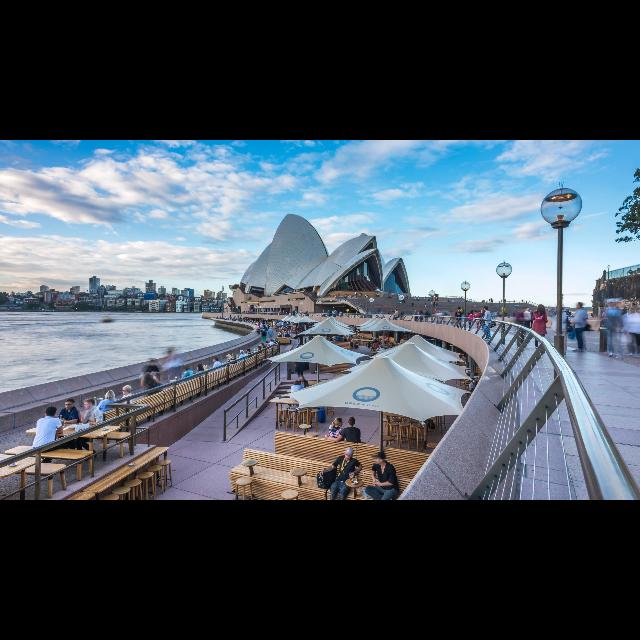head: (620, 305, 640, 359), (44, 407, 56, 419), (374, 452, 386, 464), (84, 398, 95, 410), (346, 447, 354, 461), (65, 400, 75, 410), (122, 385, 132, 395), (334, 418, 344, 427), (348, 417, 356, 425), (183, 364, 190, 372), (108, 390, 114, 398), (538, 304, 544, 312), (556, 305, 564, 311), (577, 302, 583, 310), (610, 300, 616, 308), (145, 368, 151, 374), (196, 364, 202, 370), (213, 357, 219, 363), (226, 354, 232, 360), (294, 380, 300, 386), (246, 348, 250, 354), (300, 376, 304, 382), (471, 378, 475, 384), (232, 354, 236, 358), (240, 350, 244, 354), (257, 346, 261, 350), (297, 348, 301, 352), (481, 308, 485, 312), (484, 306, 488, 310), (526, 308, 530, 312), (566, 308, 570, 312), (606, 308, 610, 312), (471, 310, 474, 314), (379, 344, 381, 348), (458, 308, 460, 312), (475, 310, 477, 314), (530, 308, 532, 312), (263, 329, 265, 331), (270, 327, 272, 329), (257, 329, 259, 331), (265, 321, 267, 323), (285, 331, 287, 333), (288, 332, 290, 334), (287, 332, 289, 334), (280, 332, 282, 334), (279, 333, 281, 335), (381, 346, 383, 348), (377, 341, 379, 343), (387, 335, 389, 337), (385, 335, 387, 337), (349, 336, 351, 338), (254, 310, 256, 312), (294, 310, 296, 312), (334, 309, 336, 311), (395, 309, 397, 311), (415, 310, 417, 312), (420, 310, 422, 312), (426, 311, 428, 313), (463, 310, 465, 312), (526, 300, 528, 302), (257, 328, 259, 329), (280, 321, 282, 322), (276, 321, 278, 322), (328, 310, 329, 312), (332, 310, 333, 312), (461, 296, 462, 298), (412, 302, 413, 304), (262, 324, 262, 324), (258, 324, 260, 324), (230, 314, 230, 316), (252, 322, 254, 322), (254, 322, 256, 322), (250, 310, 250, 312), (280, 310, 280, 312), (284, 310, 284, 312), (292, 310, 292, 310), (296, 310, 298, 310), (300, 310, 302, 310), (324, 312, 324, 314), (388, 312, 389, 312), (592, 314, 592, 314), (516, 304, 516, 304), (518, 304, 518, 306), (522, 300, 524, 300), (502, 300, 502, 300), (500, 300, 500, 302), (492, 300, 493, 300), (490, 298, 490, 300), (474, 304, 476, 304), (462, 300, 462, 300), (448, 300, 449, 300), (437, 302, 438, 302), (426, 304, 426, 304), (416, 296, 416, 296), (398, 294, 399, 294), (354, 294, 354, 294), (296, 290, 296, 290), (280, 332, 280, 332)
person: (32, 406, 78, 472), (324, 416, 368, 468), (48, 397, 82, 459), (76, 396, 106, 462), (602, 297, 634, 358), (94, 388, 125, 439), (137, 366, 175, 406), (549, 302, 573, 356), (568, 301, 592, 353), (112, 384, 136, 430), (327, 417, 347, 463), (532, 304, 548, 354), (177, 363, 196, 401), (480, 305, 496, 341), (192, 362, 208, 396), (208, 356, 225, 386), (294, 375, 310, 403), (291, 379, 305, 409), (468, 377, 484, 403), (294, 347, 306, 381), (560, 306, 572, 338), (478, 308, 489, 340), (222, 352, 238, 372), (522, 307, 532, 337), (231, 350, 247, 368), (454, 307, 464, 335), (601, 306, 611, 334), (220, 354, 234, 370), (250, 346, 264, 362), (242, 349, 254, 365), (527, 308, 535, 332), (237, 350, 249, 364), (459, 308, 466, 332), (473, 310, 481, 330), (267, 327, 275, 345), (260, 328, 268, 344), (390, 309, 398, 325), (392, 309, 400, 325), (255, 328, 267, 338), (256, 327, 268, 337), (468, 310, 474, 330), (376, 344, 384, 358), (346, 335, 354, 349), (424, 310, 430, 328), (374, 341, 382, 354), (378, 346, 386, 358), (418, 310, 424, 326), (380, 334, 388, 344), (286, 332, 292, 344), (285, 332, 291, 344), (277, 333, 283, 345), (414, 310, 418, 326), (383, 334, 389, 344), (260, 323, 266, 331), (257, 322, 263, 330), (320, 312, 326, 320), (275, 321, 279, 332), (264, 321, 268, 331), (284, 331, 288, 341), (280, 332, 284, 342), (280, 320, 284, 330), (278, 330, 282, 340), (278, 310, 282, 318), (282, 310, 286, 318), (290, 310, 294, 318), (292, 310, 296, 318), (294, 309, 298, 317), (590, 312, 594, 320), (514, 303, 518, 309), (294, 290, 298, 296), (334, 309, 336, 319), (252, 322, 255, 328), (300, 309, 302, 317), (328, 310, 330, 318), (332, 310, 334, 318), (524, 300, 528, 304), (447, 298, 451, 302), (364, 294, 368, 298), (252, 321, 254, 327), (254, 309, 256, 315), (388, 312, 390, 318), (517, 304, 519, 310), (491, 299, 493, 305), (490, 297, 492, 303), (486, 300, 488, 306), (474, 303, 476, 309), (425, 302, 427, 308), (412, 302, 414, 308), (417, 296, 419, 302), (229, 314, 231, 318), (249, 310, 251, 314), (522, 300, 524, 304), (501, 299, 503, 303), (499, 301, 501, 305), (489, 298, 491, 302), (482, 300, 484, 304), (461, 300, 463, 304), (460, 296, 462, 300), (436, 302, 438, 306), (436, 298, 438, 302), (415, 296, 417, 300), (398, 294, 400, 298), (353, 293, 355, 297), (391, 296, 393, 298)
